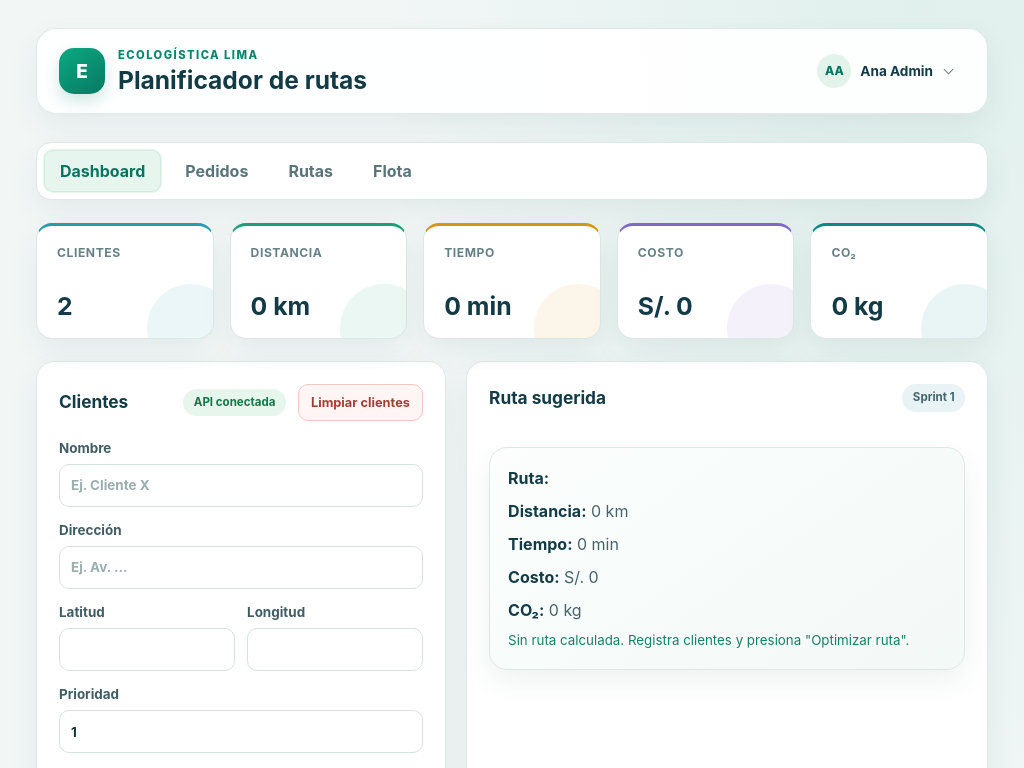
Test: Limpiar clientes › muestra el diálogo de confirmación con Cancelar y Eliminar
Expected: the text "API conectada" is shown, [183, 389, 286, 416]
What coordinates should you click on to do the following:
click the button "Limpiar clientes"
I would click on:
 (360, 402)
Its box is [298, 384, 423, 421].
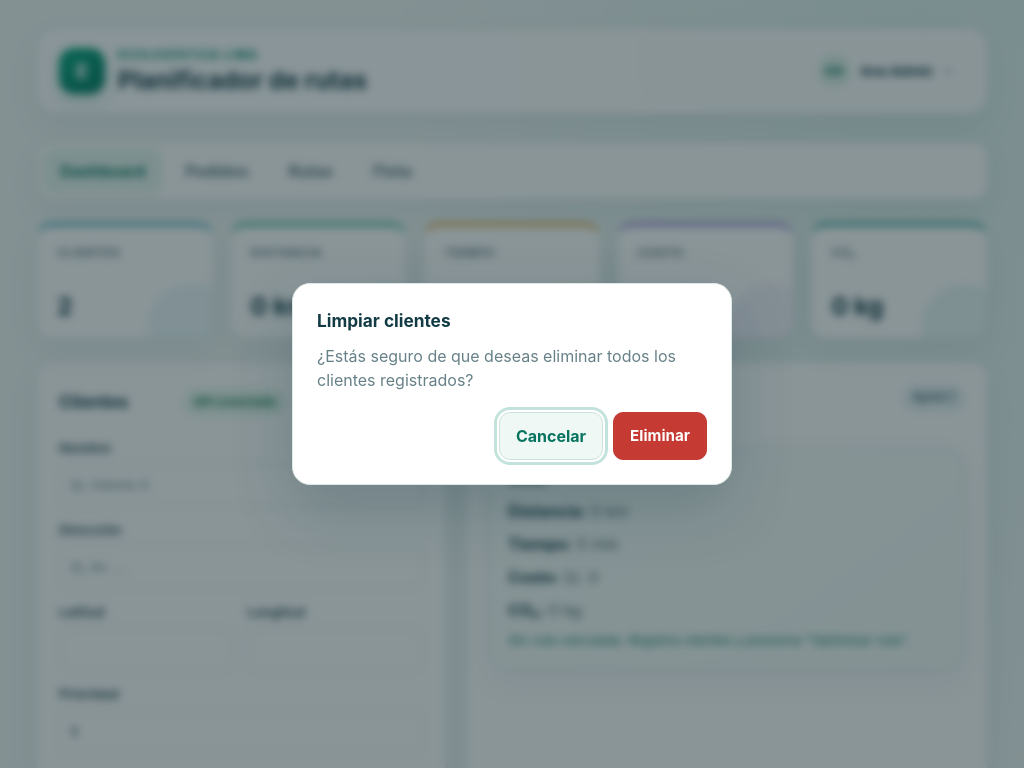
Expected: the text "¿Estás seguro de que deseas eliminar todos los clientes registrados?" is shown, [317, 344, 707, 392]
Expected: the button "Cancelar" is shown, [499, 412, 603, 460]
Expected: the button "Eliminar" is shown, [613, 412, 707, 460]
